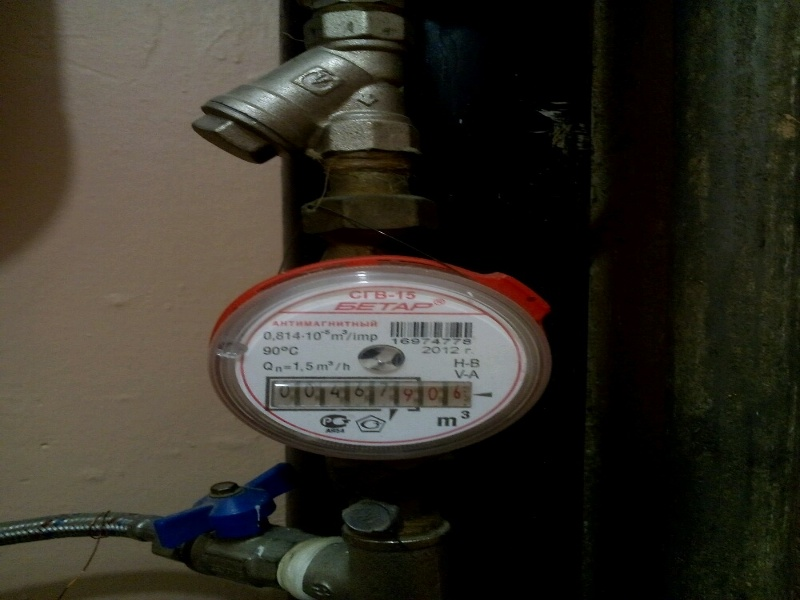meter: (271, 376, 471, 410)
